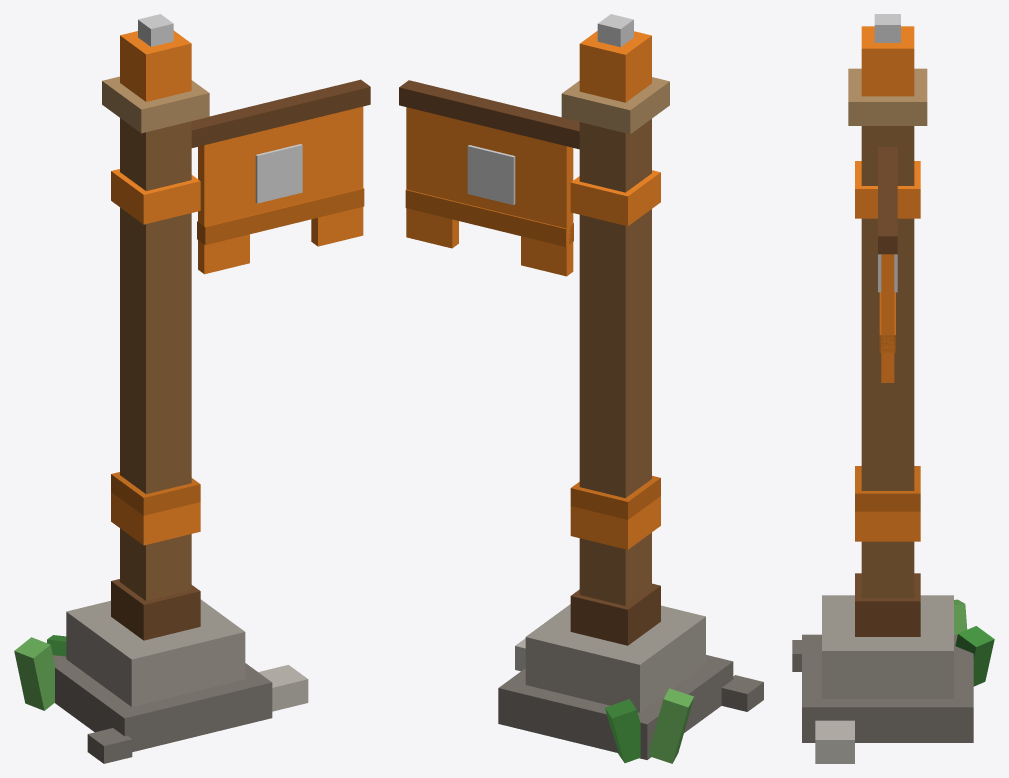
File: territory-marker-bumblebee.glb
3 views of the same model, side by side, from view 1: azimuth 30°, elevation 25°; view 2: azimuth 150°, elevation 25°; view 3: azimuth 270°, elevation 25° (orthographic).
Parts seen in each view (by area): view 1: marker-post, banner; view 2: marker-post, banner; view 3: marker-post, banner.
Part boxes in pixels (box(x1,y1,x2,y2)): marker-post: box(14, 14, 308, 763); banner: box(191, 79, 370, 274); marker-post: box(498, 14, 763, 763); banner: box(399, 80, 579, 276); marker-post: box(792, 14, 994, 763); banner: box(878, 147, 897, 382).
Bounding box in the file's own units: 0.5581 × 1.15 × 0.3071.
